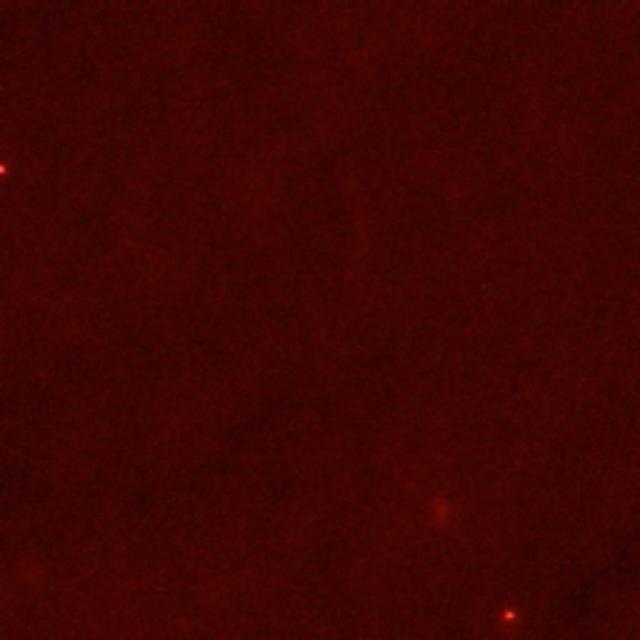Fragment: (502, 610, 516, 620)
